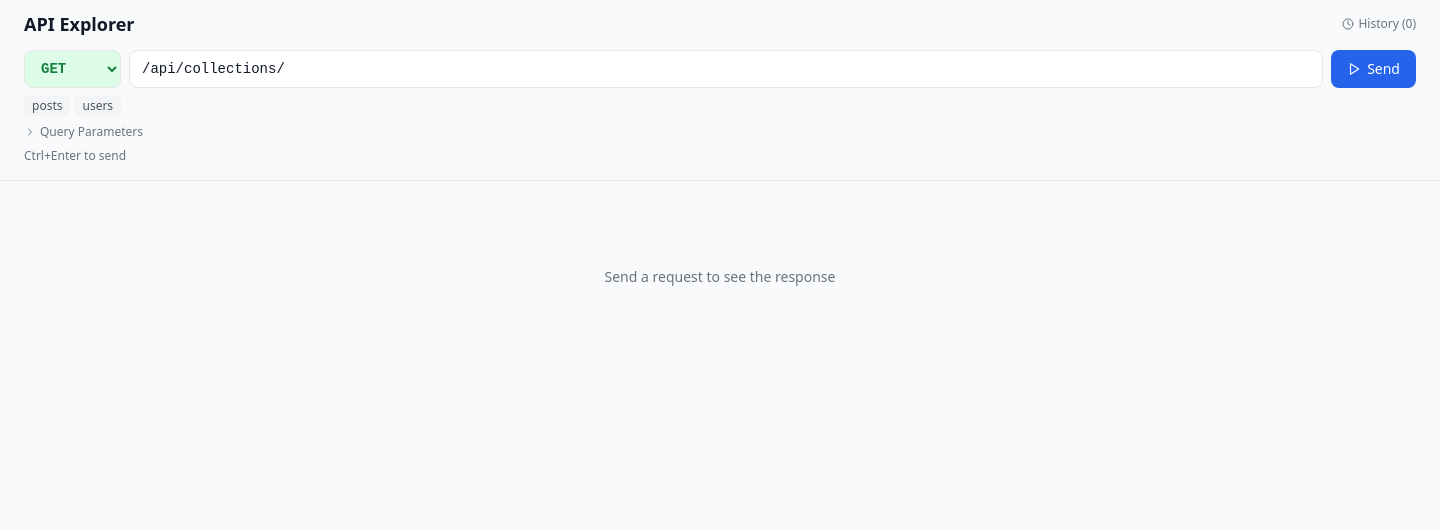
Scenario: ApiExplorer › saves request to history on success
Replace the text in the field named "Request path" with "/api/collections/posts". click: (726, 69)
box: [129,50,1323,88]
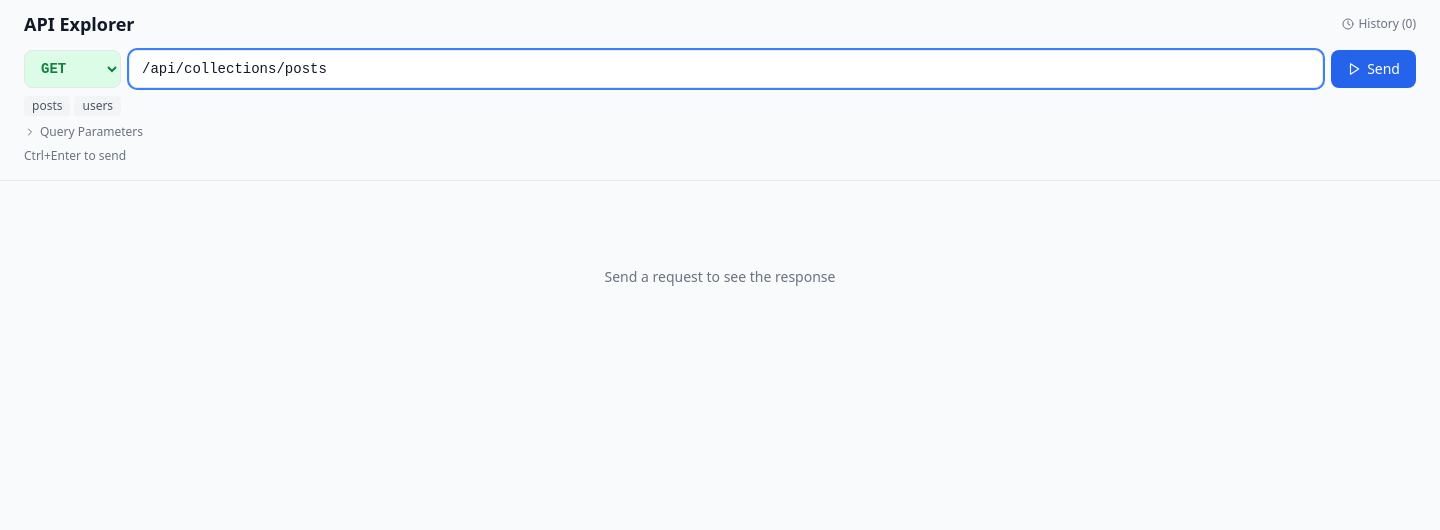
Click the button "Send". click: (1374, 69)
box: [1331,50,1416,88]
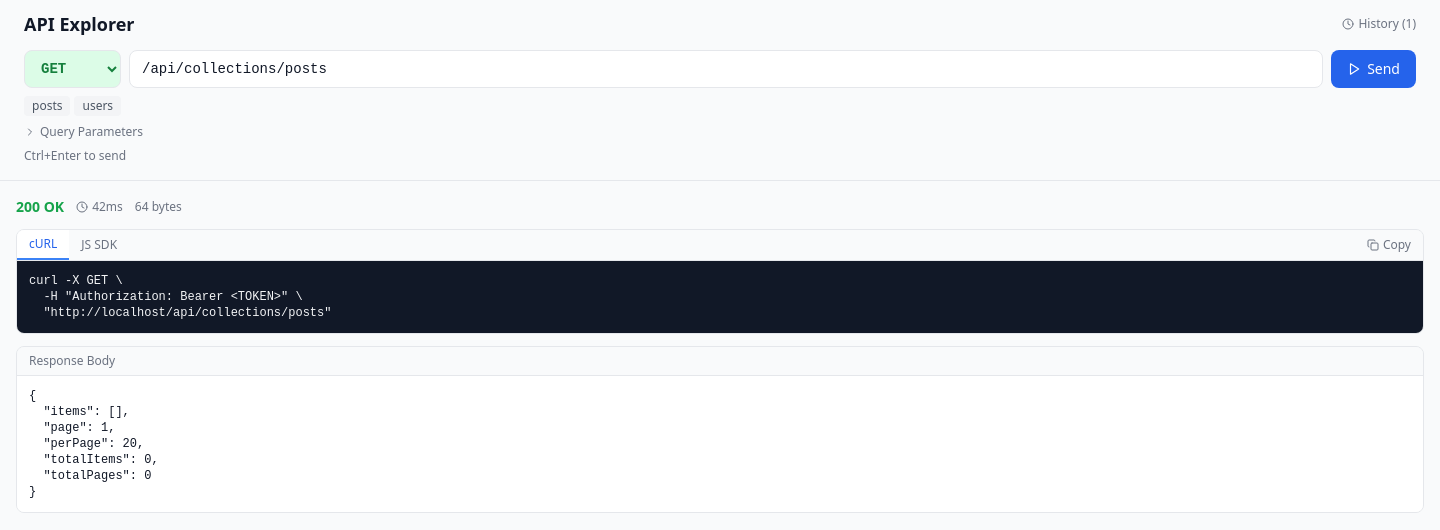
Result: the text "200 OK" is shown at [16,197,64,217]
Result: the button "History (1)" is shown at [1342,16,1416,32]
